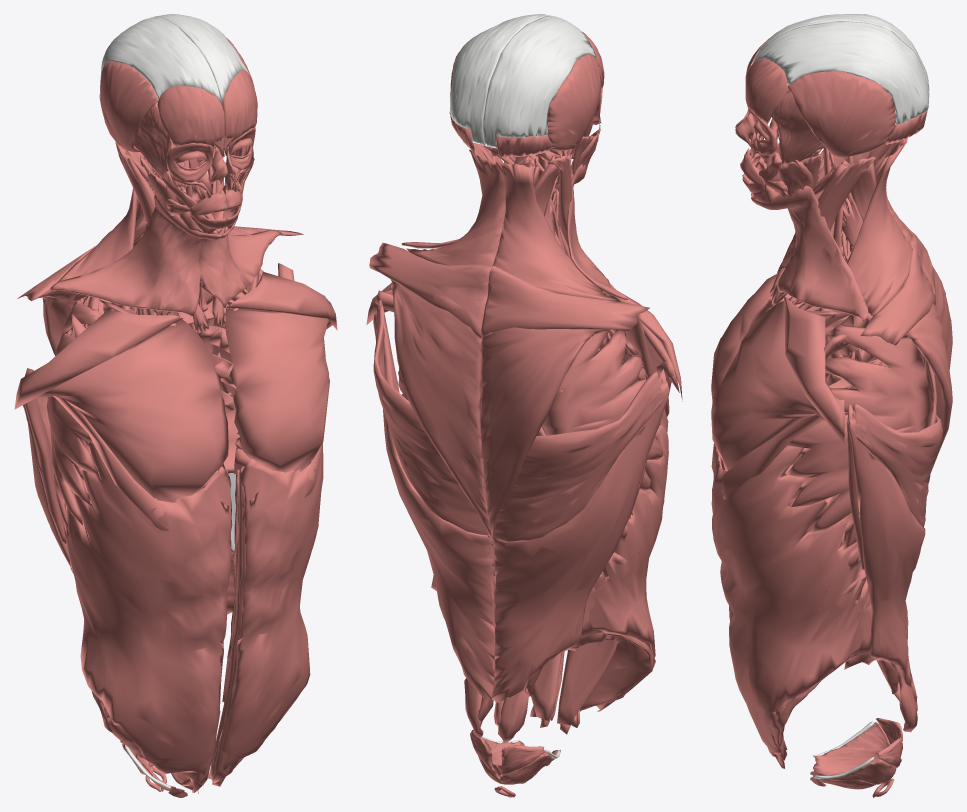
The model's file is muscles_axial_torso.glb.
3 views of the same model, side by side, from view 1: azimuth 30°, elevation 25°; view 2: azimuth 150°, elevation 25°; view 3: azimuth 270°, elevation 25° (orthographic). The views are drawn at different scales.
Visible parts, largest first — view 1: Muscles_Abdominal_Wall, Muscles_Thoracic_Wall, Muscles_Head_Facial, Muscles_Neck_Cervical, Muscles_Back_Superficial, Muscles_Head_Mastication, Muscles_Pelvic_Floor, Muscles_Diaphragm, Muscles_Back_DeepErector; view 2: Muscles_Back_Superficial, Muscles_Head_Facial, Muscles_Abdominal_Wall, Muscles_Thoracic_Wall, Muscles_Neck_Cervical, Muscles_Back_DeepErector, Muscles_Pelvic_Floor, Muscles_Head_Mastication; view 3: Muscles_Thoracic_Wall, Muscles_Abdominal_Wall, Muscles_Back_Superficial, Muscles_Head_Facial, Muscles_Neck_Cervical, Muscles_Pelvic_Floor, Muscles_Head_Mastication, Muscles_Back_DeepErector.
Part boxes in pixels (x1,y1,x2,y2): Muscles_Abdominal_Wall: (65,442,323,792); Muscles_Thoracic_Wall: (14,263,337,576); Muscles_Head_Facial: (99,14,257,234); Muscles_Neck_Cervical: (50,141,281,333); Muscles_Back_Superficial: (17,171,303,566); Muscles_Head_Mastication: (134,103,249,211); Muscles_Pelvic_Floor: (120,741,210,797); Muscles_Diaphragm: (96,410,240,553); Muscles_Back_DeepErector: (70,139,231,396); Muscles_Back_Superficial: (369,153,669,702); Muscles_Head_Facial: (449,14,604,169); Muscles_Abdominal_Wall: (431,409,668,734); Muscles_Thoracic_Wall: (366,282,682,565); Muscles_Neck_Cervical: (401,143,628,299); Muscles_Back_DeepErector: (464,143,562,743); Muscles_Pelvic_Floor: (470,729,560,797); Muscles_Head_Mastication: (513,66,602,174); Muscles_Thoracic_Wall: (711,237,933,595); Muscles_Abdominal_Wall: (711,359,898,768); Muscles_Back_Superficial: (841,138,952,688); Muscles_Head_Facial: (735,14,929,202); Muscles_Neck_Cervical: (751,148,876,321); Muscles_Pelvic_Floor: (810,718,902,797); Muscles_Head_Mastication: (771,90,825,196); Muscles_Back_DeepErector: (842,140,924,732).
Size of the model in its own units: 0.3944 by 0.9075 by 0.2559.
